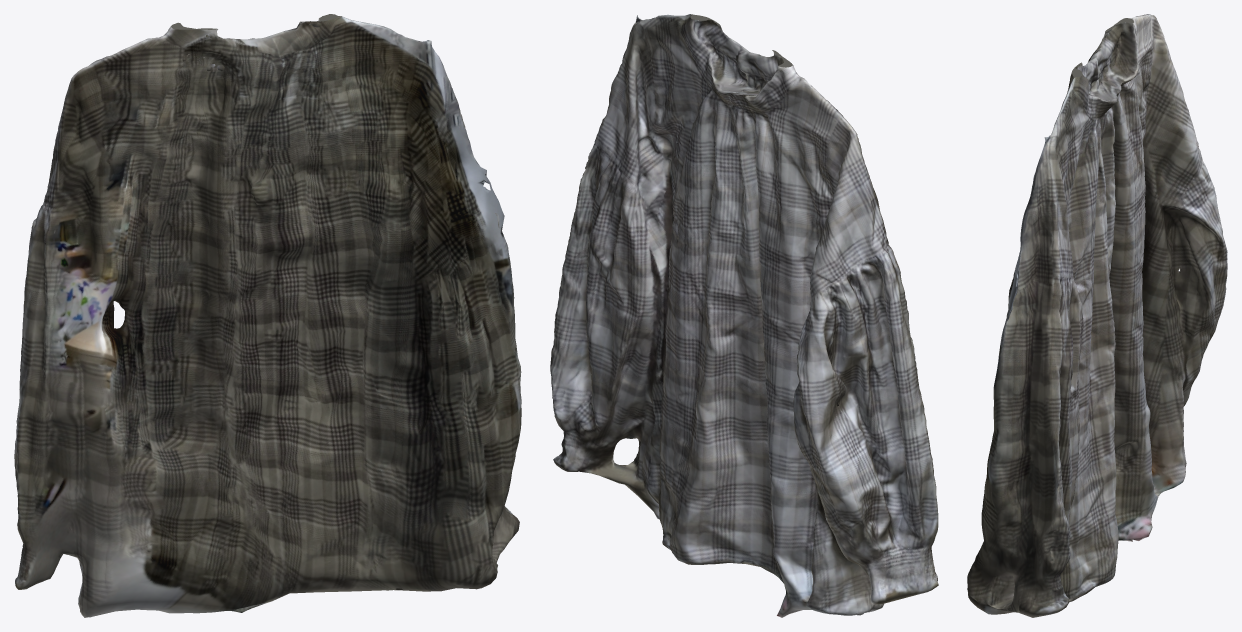
File: Autumn_girly_top.glb
The picture shows the model from 3 angles, left to right: view 1: azimuth 30°, elevation 25°; view 2: azimuth 150°, elevation 25°; view 3: azimuth 270°, elevation 25°; orthographic projection. The views are drawn at different scales.
Parts seen in each view (by area): view 1: 3DModel; view 2: 3DModel; view 3: 3DModel.
Part boxes in pixels (x1,y1,x2,y2): 3DModel: (14, 14, 521, 617); 3DModel: (550, 14, 938, 617); 3DModel: (967, 14, 1227, 617).
Bounding box in the file's own units: 0.5655 × 0.6984 × 0.3167.
1 material, 1 textured.
